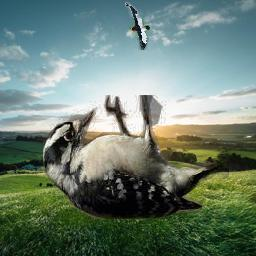Woodpecker: (43, 95, 229, 219), (126, 2, 151, 50)
